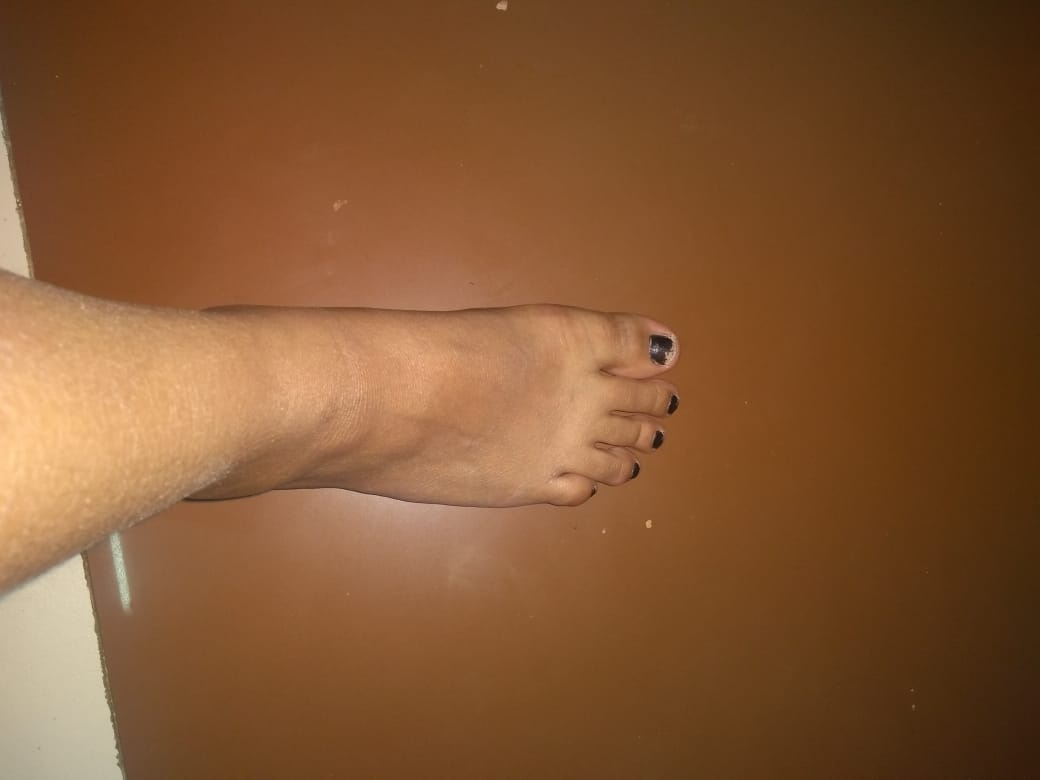feet: (126, 240, 688, 517)
